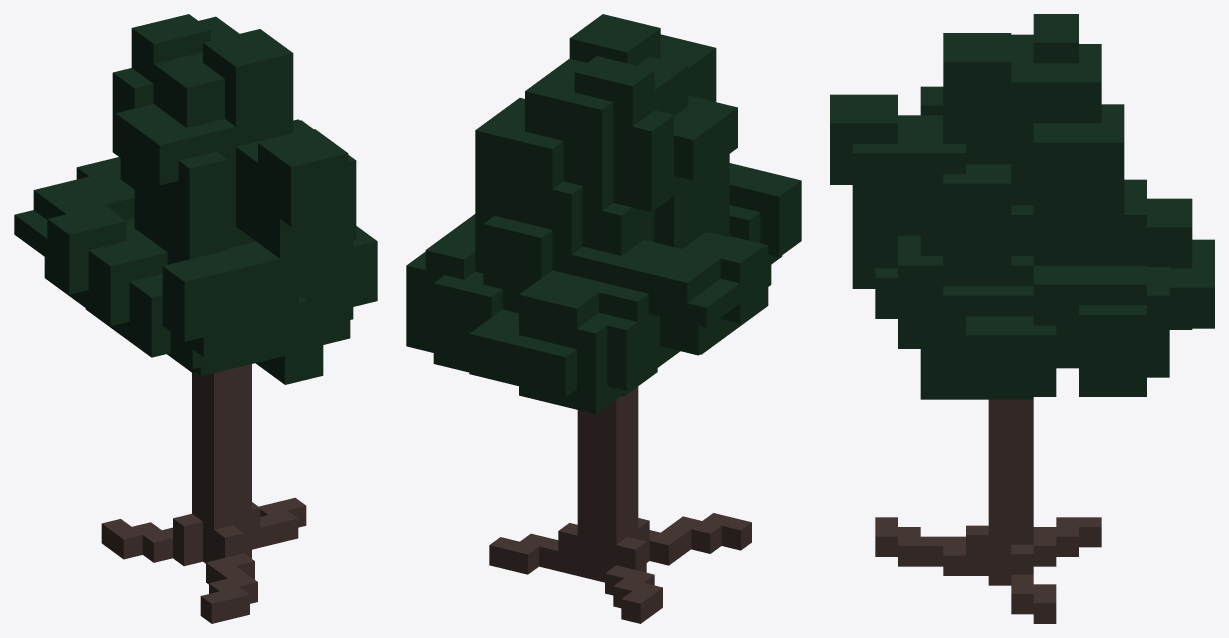
File: tree_11.obj
The picture shows the model from 3 angles, left to right: view 1: azimuth 30°, elevation 25°; view 2: azimuth 150°, elevation 25°; view 3: azimuth 270°, elevation 25°; orthographic projection. The views are drawn at different scales.
Parts seen in each view (by area): view 1: tree_11; view 2: tree_11; view 3: tree_11.
Part boxes in pixels (<box>): tree_11: <box>14,14,377,623</box>; tree_11: <box>406,14,801,623</box>; tree_11: <box>830,14,1214,623</box>.
Bounding box in the file's own units: 15 × 26 × 17.
